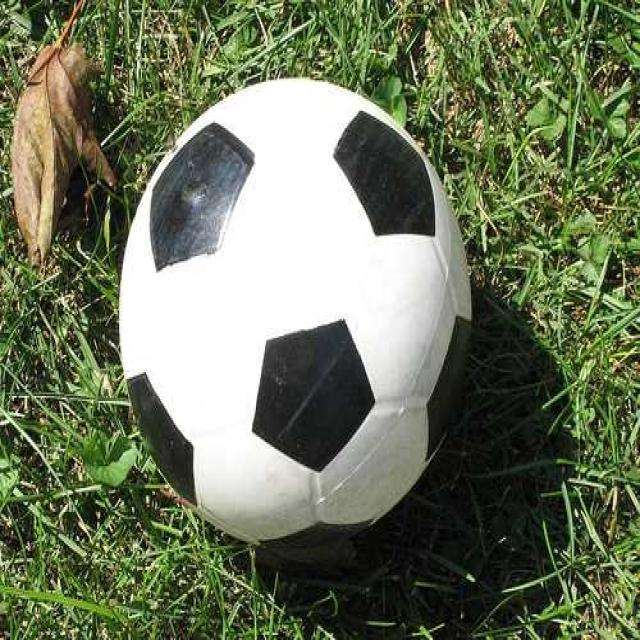ball: (120, 78, 473, 548)
